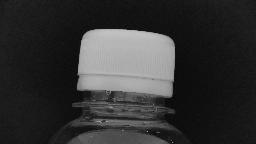Loose Cap: (64, 70, 180, 119)
